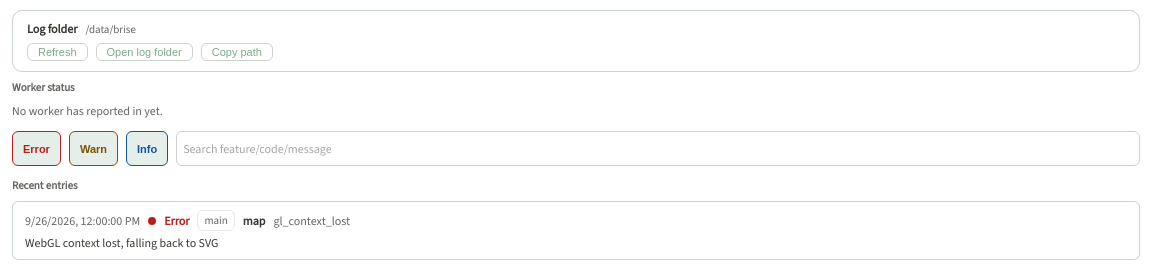
Test: DiagnosticsTab › shows the filtered empty state when a filter matches nothing, distinct from the no-entries state
The width and height of the screenshot is (1152, 277).
Check: the element with test id "ai-diag-entry-row" is shown, box [12,201,1140,260]
Type "nothing-matches-this" into the field with test id "ai-diag-filter-text" at (658, 148), box [176,131,1140,166]
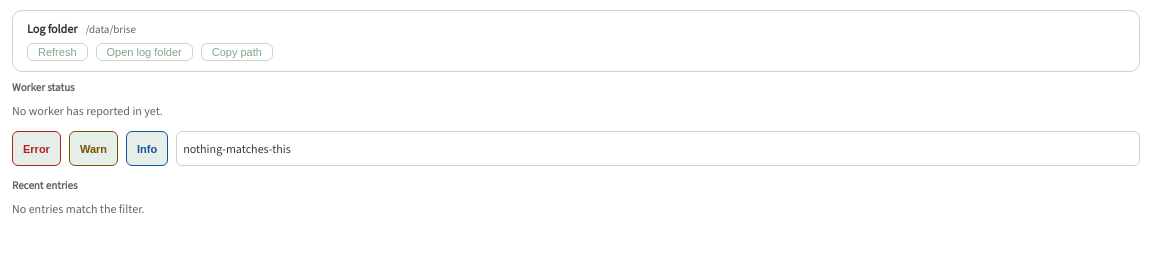
Check: the text "No entries match the filter." is shown, box [12,201,145,217]
